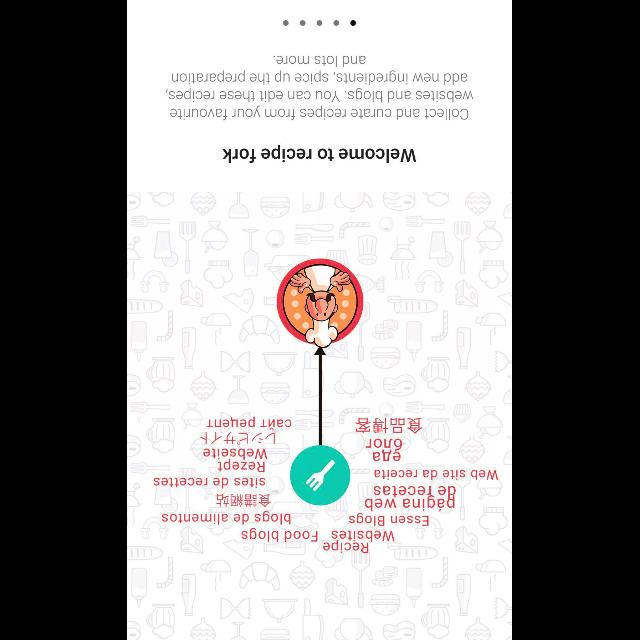image: (128, 191, 512, 639)
pageindicator: (283, 19, 357, 26)
text: (166, 54, 474, 120), (223, 144, 417, 164)
